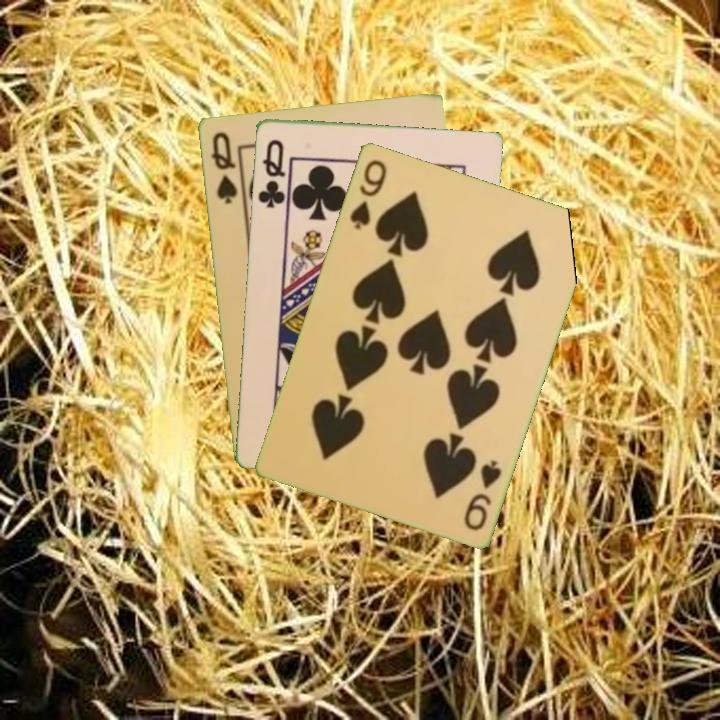9s: (460, 456, 504, 534), (346, 155, 390, 232)
Qc: (254, 135, 288, 211)
Qs: (206, 128, 240, 207)
